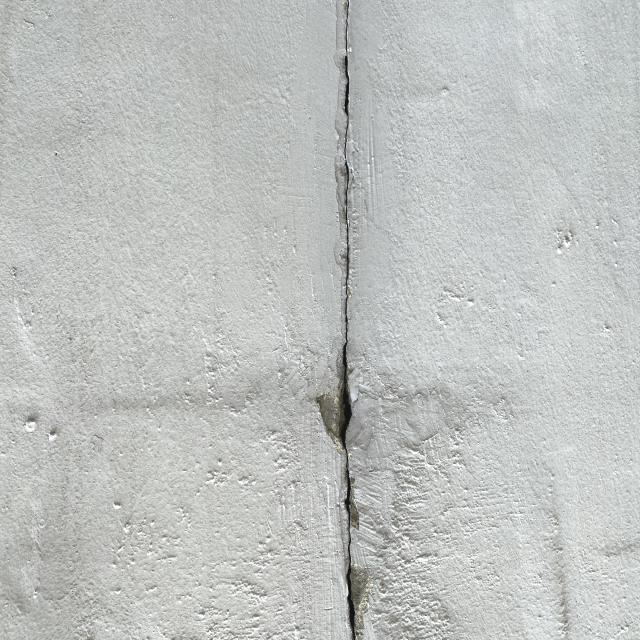SurfaceCrack: (274, 1, 408, 640)
